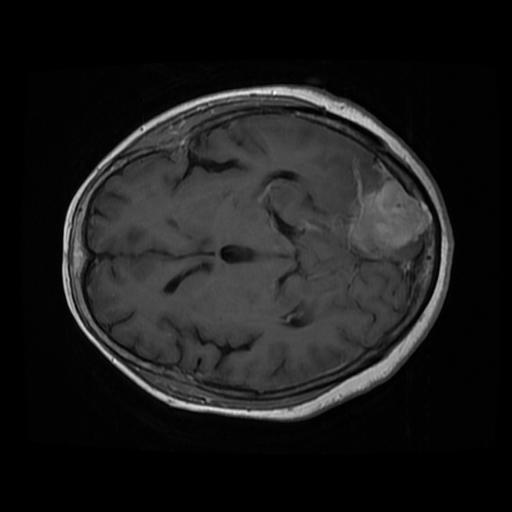meningioma: (341, 177, 428, 257)
